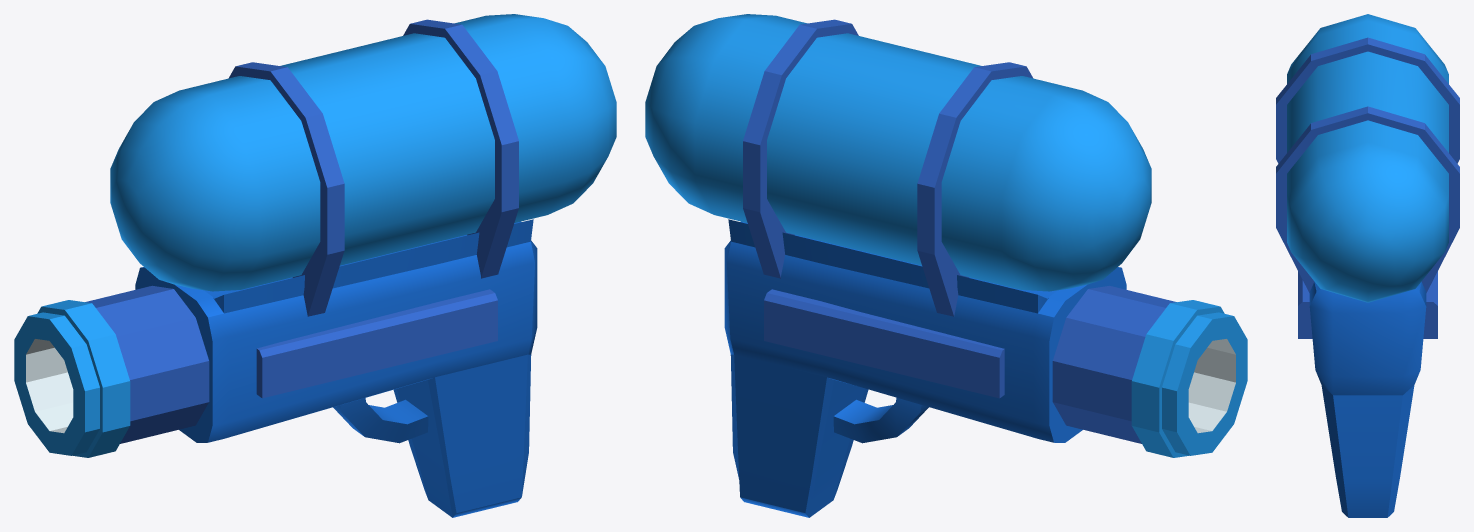
File: SR_Gun_Blue.fbx
The picture shows the model from 3 angles, left to right: view 1: azimuth 30°, elevation 25°; view 2: azimuth 150°, elevation 25°; view 3: azimuth 270°, elevation 25°; orthographic projection. The views are drawn at different scales.
Visible parts, largest first — view 1: SR_Gun_Blue; view 2: SR_Gun_Blue; view 3: SR_Gun_Blue.
Boxes of the visible parts, left/top/right/bottom form: SR_Gun_Blue: left=14, top=14, right=616, bottom=517; SR_Gun_Blue: left=645, top=14, right=1247, bottom=517; SR_Gun_Blue: left=1276, top=14, right=1459, bottom=517.
Bounding box in the file's own units: 171 × 141 × 60.59.
